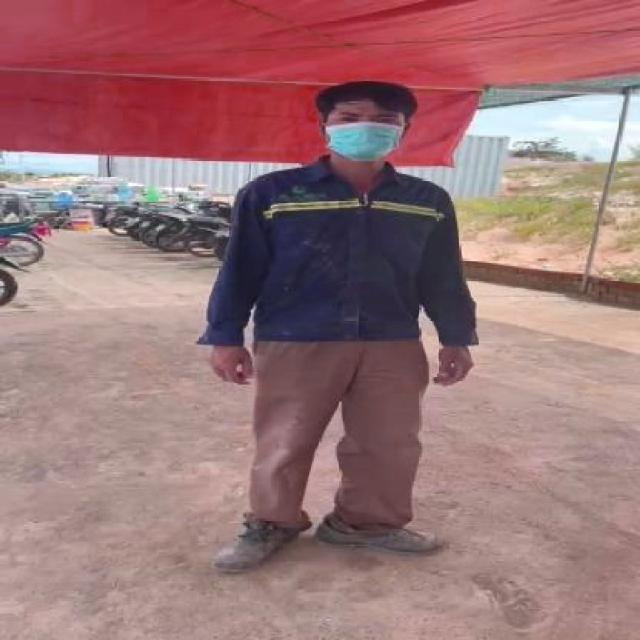face_mask: (328, 111, 406, 158)
hand_noglove: (201, 338, 259, 389), (427, 341, 482, 388)
head_nohelmet: (315, 76, 417, 113)
person: (168, 71, 488, 583)
shoes: (197, 509, 312, 573), (308, 512, 450, 554)
